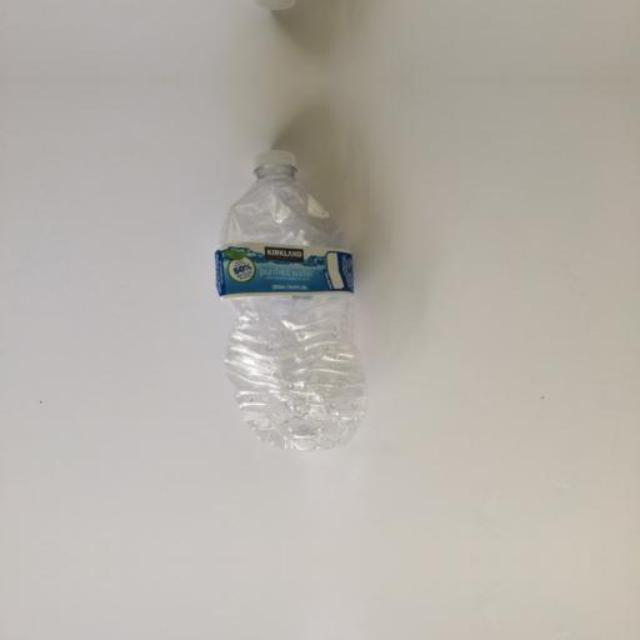Plastic: (202, 127, 390, 467), (202, 0, 389, 33)
